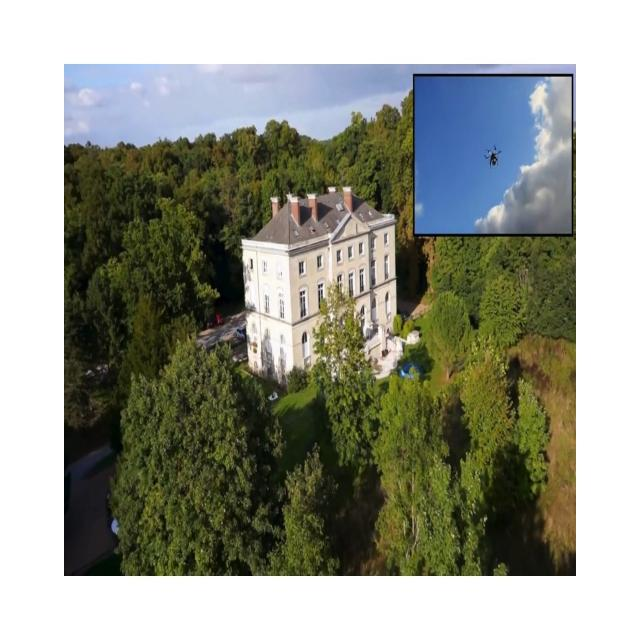drone: (484, 144, 502, 168)
